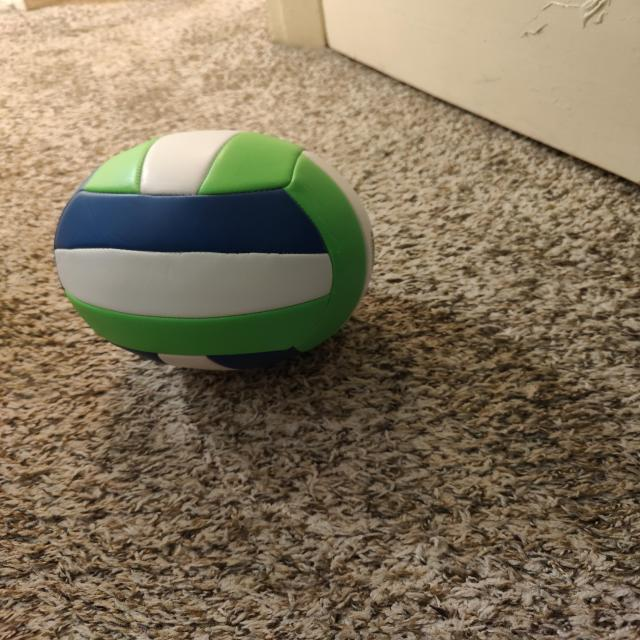ball: (64, 148, 363, 368)
